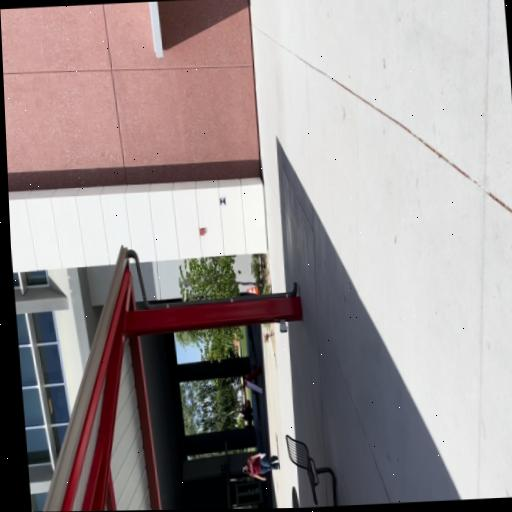target9: (219, 195, 225, 205)
